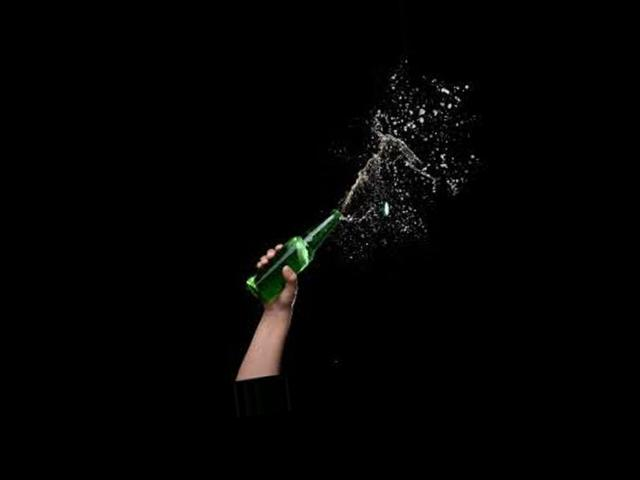beer: (236, 210, 352, 308)
